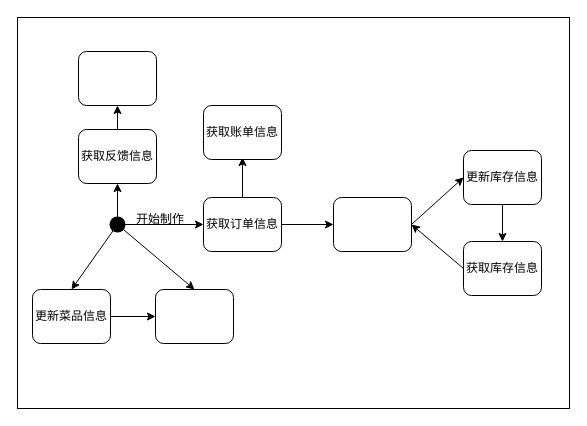
Image size: 587x426. Some labels were removed from this diagram. Here are the shapes that lost their labels. From the top down, the centre of each, then its label:
At point 117,78: "处理反馈信息".
At point 372,224: "制作信息提交".
At point 194,316: "获取菜品信息".
